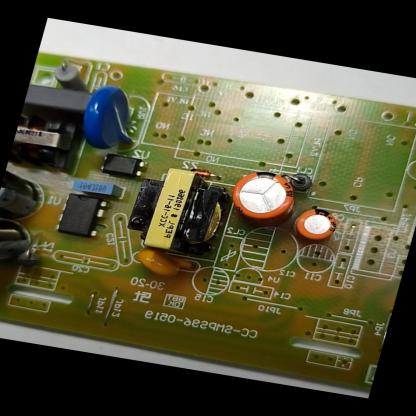Cap1: (225, 165, 307, 228)
Cap2: (290, 203, 344, 245)
Cap3: (0, 162, 51, 225)
Cap4: (0, 220, 38, 278)
MOSFET: (50, 189, 112, 241)
Mov: (71, 80, 150, 156)
Resistor: (46, 60, 96, 92)
Transformer: (121, 160, 235, 258), (8, 111, 83, 172)
